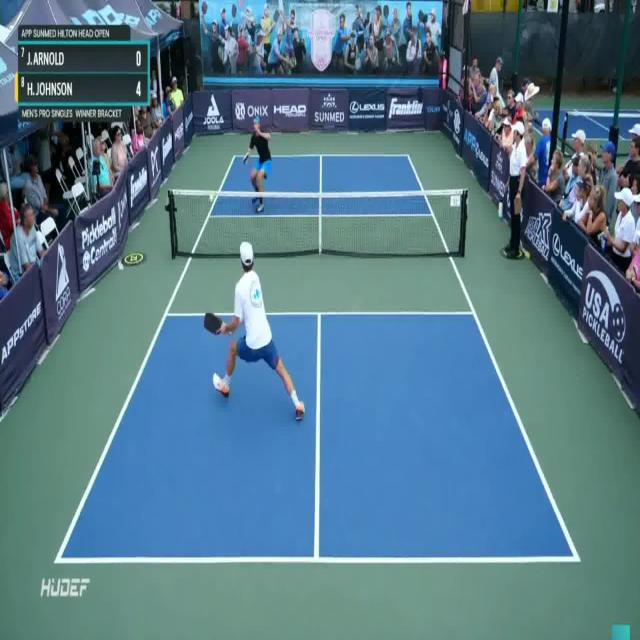ball: (209, 192, 214, 204)
